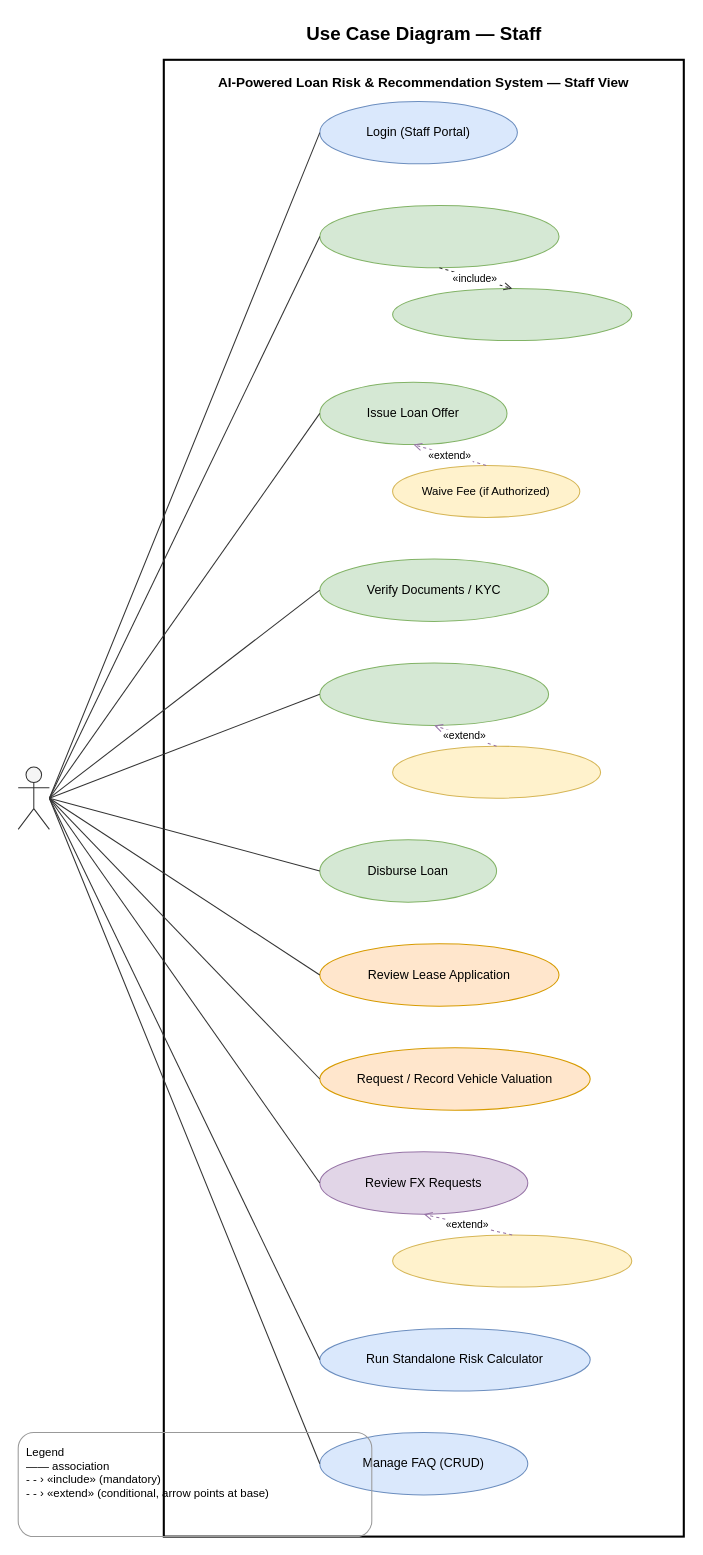
Some shapes in this 703 by 1555 pixel diagram are drawn without their labels. Each missing label, with the box of its shape:
Counter-Quote Request (if Proposed): (392, 1234, 632, 1287)
Record Offline Repayment: (319, 662, 549, 725)
Review & Decide Application: (319, 204, 559, 268)
Staff: (17, 766, 49, 829)
View Guarantor Exposure: (392, 288, 632, 341)
Waive Late Fee (if Authorized): (392, 745, 601, 798)
